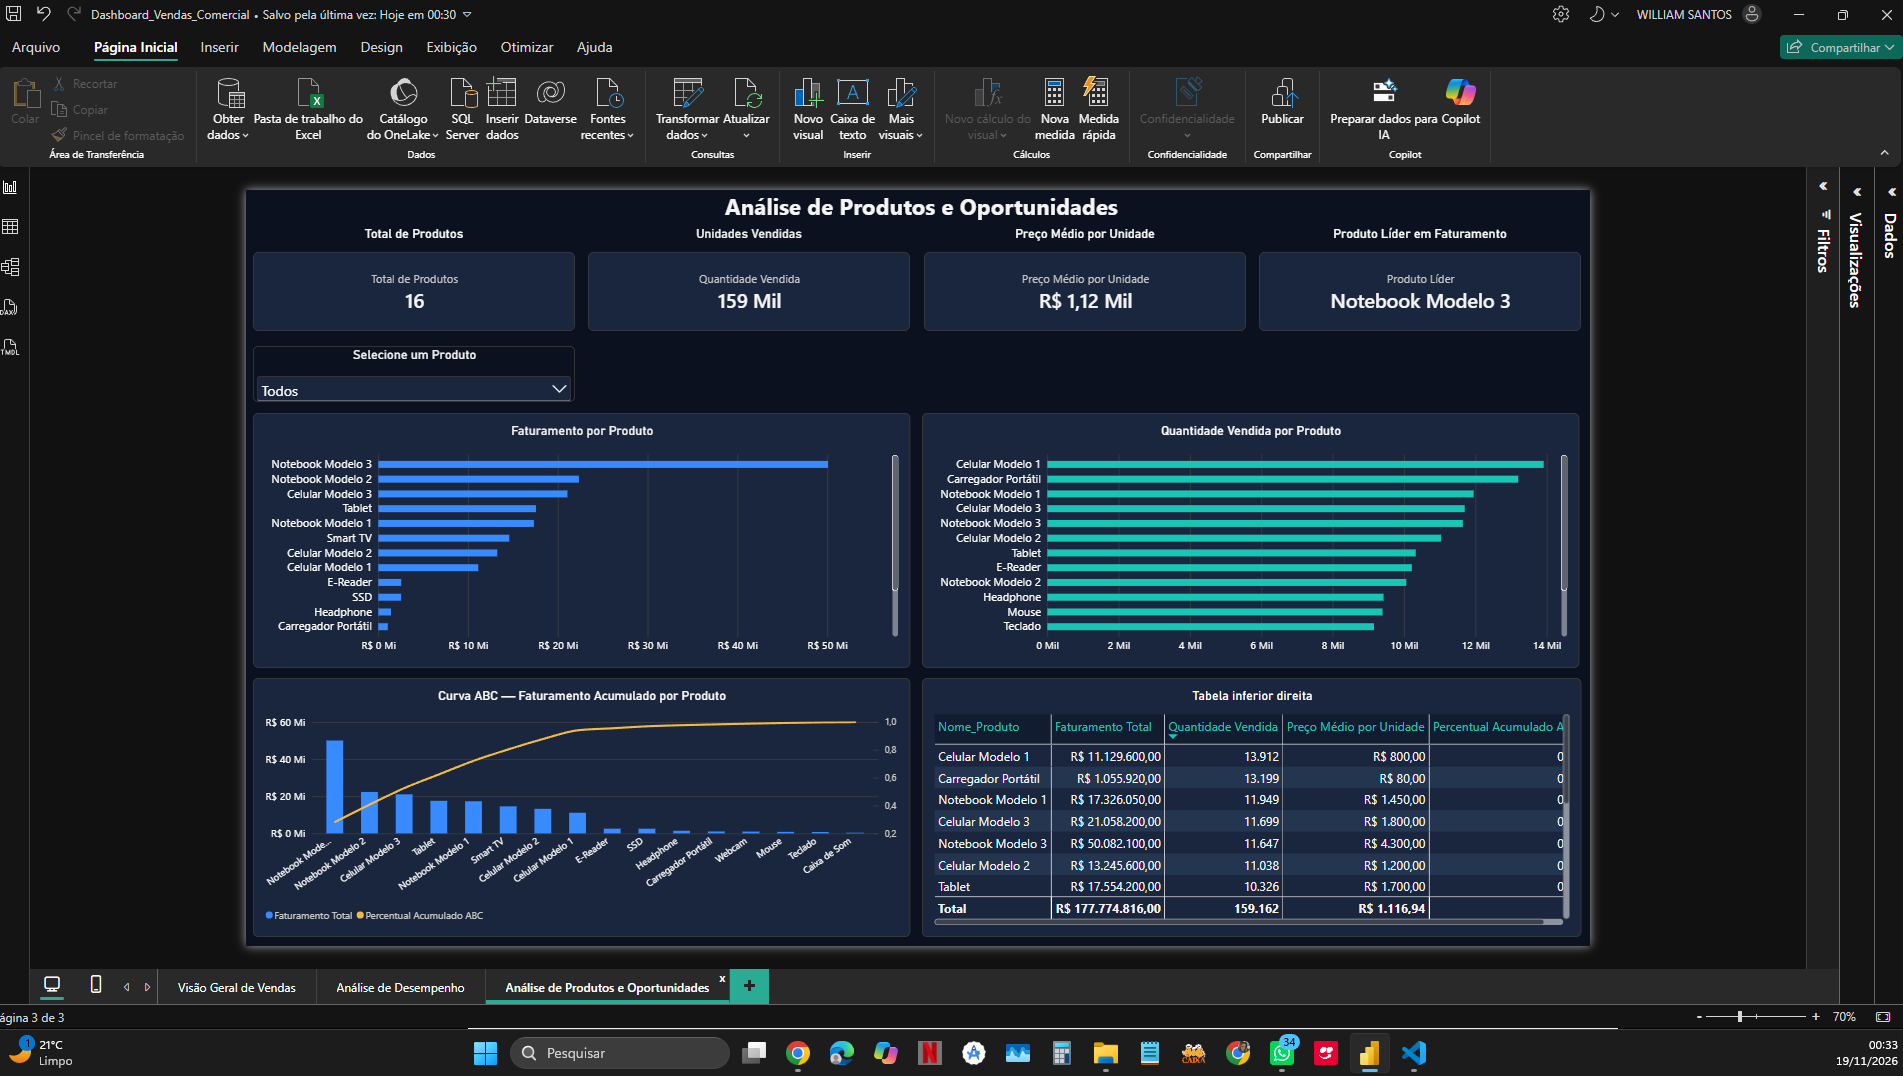

What the dashboard file says about the page in this screenshot:
{"tool":"powerbi","page":{"name":"Análise de Produtos e Oportunidades","canvas":[1920,1080],"ordinal":2},"visuals":[{"type":"textbox","box":[10,0,1910,51.4],"z":0},{"type":"cardVisual","title":"Produto Líder em Faturamento","fields":{"Data":["Tabela de Vendas.Produto Líder"]},"box":[1447.1,51.4,460,150],"z":1000},{"type":"cardVisual","title":"Total de Produtos","fields":{"Data":["Tabela de Vendas.Total de Produtos"]},"box":[10,51.4,460,150],"z":2000},{"type":"cardVisual","title":"\tUnidades Vendidas","fields":{"Data":["Tabela de Vendas.Quantidade Vendida"]},"box":[489,51.4,460,150],"z":3000},{"type":"cardVisual","title":"Preço Médio por Unidade","fields":{"Data":["Tabela de Vendas.Preço Médio por Unidade"]},"box":[968.1,51.4,460,150],"z":4000},{"type":"slicer","title":"Selecione um Produto","fields":{"Values":["Tabela de Vendas.Nome_Produto"]},"box":[10,222.9,460,80],"z":5000},{"type":"barChart","title":"Faturamento por Produto","fields":{"Category":["Tabela de Vendas.Nome_Produto"],"Y":["Tabela de Vendas.Faturamento Total"]},"box":[10,318.6,938.6,364.3],"z":6000},{"type":"barChart","title":"Quantidade Vendida por Produto","fields":{"Category":["Tabela de Vendas.Nome_Produto"],"Y":["Tabela de Vendas.Quantidade Vendida"]},"box":[965.7,318.6,938.6,364.3],"z":7000},{"type":"tableEx","title":"Tabela inferior direita","fields":{"Values":["Tabela de Vendas.Nome_Produto","Tabela de Vendas.Faturamento Total","Tabela de Vendas.Quantidade Vendida","Tabela de Vendas.Preço Médio por Unidade","Tabela de Vendas.Percentual Acumulado ABC"]},"box":[965.5,697.3,941.8,370],"z":8000},{"type":"lineClusteredColumnComboChart","title":"Curva ABC — Faturamento Acumulado por Produto","fields":{"Category":["Tabela de Vendas.Nome_Produto"],"Y":["Tabela de Vendas.Faturamento Total"],"Y2":["Tabela de Vendas.Percentual Acumulado ABC"]},"box":[10,697.1,938.6,370],"z":9000}]}

Visuals, with their boxes on the page's 1920x1080 design canvas (x1, y1, x2, y2). These are canvas units, not pixel positions in the 1903x1076 screenshot, which may show the page scaled, cropped or inside an application window:
textbox: (10,0,1920,51)
"Produto Líder em Faturamento" cardVisual: (1447,51,1907,201)
"Total de Produtos" cardVisual: (10,51,470,201)
"	Unidades Vendidas" cardVisual: (489,51,949,201)
"Preço Médio por Unidade" cardVisual: (968,51,1428,201)
"Selecione um Produto" slicer: (10,223,470,303)
"Faturamento por Produto" barChart: (10,319,949,683)
"Quantidade Vendida por Produto" barChart: (966,319,1904,683)
"Tabela inferior direita" tableEx: (966,697,1907,1067)
"Curva ABC — Faturamento Acumulado por Produto" lineClusteredColumnComboChart: (10,697,949,1067)
